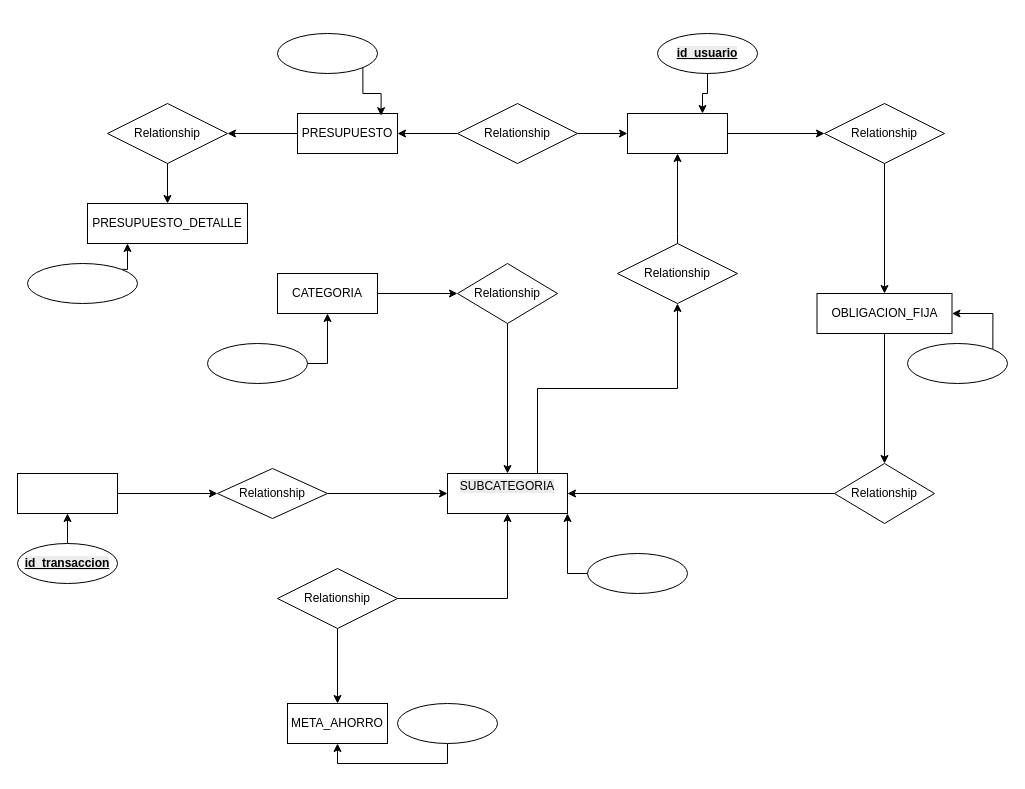
The diagram is 1025 pixels wide and 789 high, and some of its shapes have lost their labels. Here are the shapes that lost their labels. From the top down, the centre of each, then its label:
pixel 327 53: id_presupuesto
pixel 677 133: USUARIO
pixel 82 283: id_presu_detalle
pixel 257 363: id_categoria
pixel 957 363: id_obligacion
pixel 67 493: TRANSACCION
pixel 637 573: id_subcategoria
pixel 447 723: id_meta
